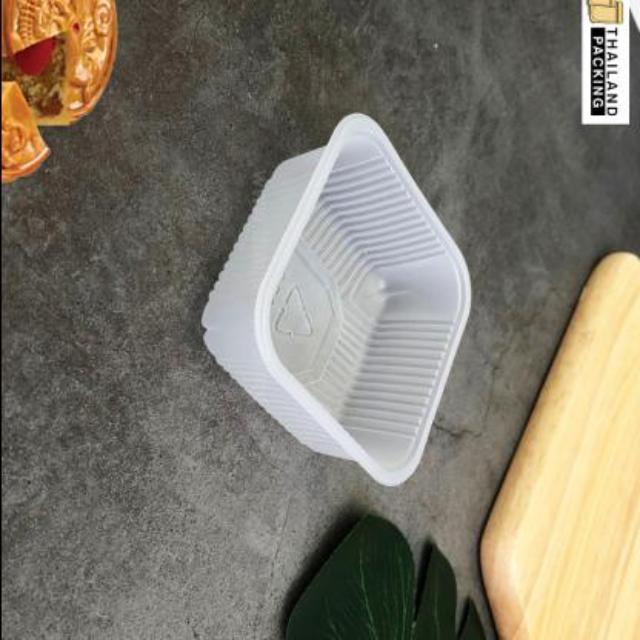plastic_box: (201, 110, 474, 484)
